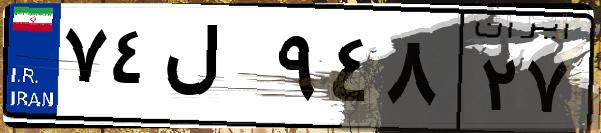2: (475, 38, 525, 113)
4: (330, 28, 385, 110), (110, 28, 158, 98)
7: (57, 26, 110, 100), (525, 38, 570, 115)
8: (385, 28, 445, 110)
9: (270, 28, 330, 110)
ل: (158, 20, 270, 120)
